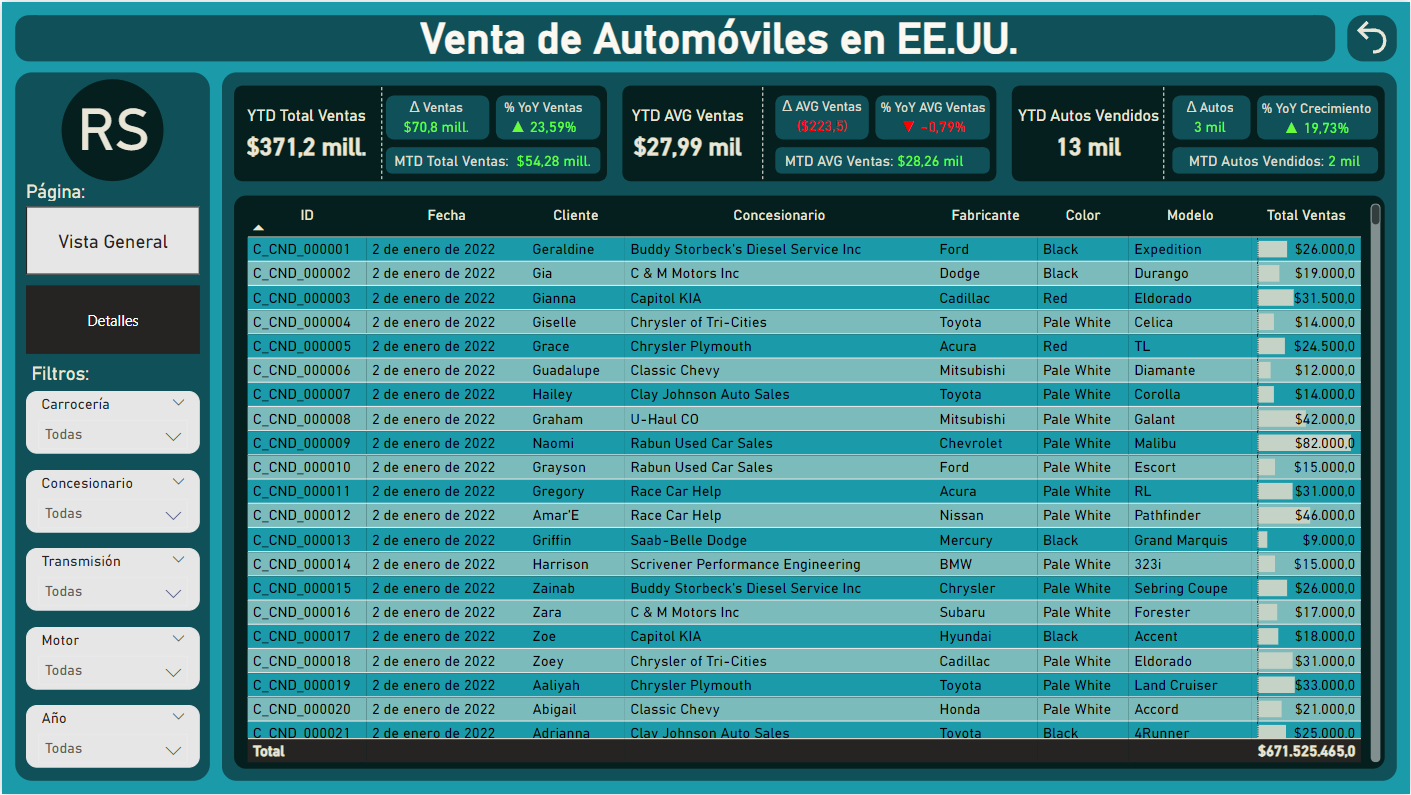

The page's visual inventory and layout, read from the dashboard file:
{"tool":"powerbi","page":{"name":"Detalles","canvas":[1280,720],"ordinal":1},"visuals":[{"type":"tableEx","fields":{"Values":["car_data.Car_id","car_data.Date","car_data.Customer Name","car_data.Dealer_Name","car_data.Company","car_data.Color","car_data.Model","Medidas_DAX.Total Ventas"]},"box":[217,178,1041,518],"z":0},{"type":"slicer","fields":{"Values":["car_data.Body Style"]},"box":[21.8,353.6,158.2,57.3],"z":1000},{"type":"slicer","fields":{"Values":["car_data.Dealer_Name"]},"box":[21.8,425,158.2,57.3],"z":2000},{"type":"slicer","fields":{"Values":["car_data.Transmission"]},"box":[21.8,496.4,158.2,57.3],"z":3000},{"type":"slicer","fields":{"Values":["Dim_Calendar DAX.#Año"]},"box":[21.8,639.1,158.2,57.3],"z":4000},{"type":"slicer","fields":{"Values":["car_data.Engine"]},"box":[21.8,567.7,158.2,57.3],"z":5000},{"type":"textbox","box":[21.8,322.7,79.1,30.9],"z":6000},{"type":"cardVisual","fields":{"Data":["Medidas_DAX.YTD AVG Ventas"]},"box":[549.1,77.3,356.4,84.5],"z":7000},{"type":"cardVisual","fields":{"Data":["Medidas_DAX.Diferencia AVG Ventas"]},"box":[686.4,78.2,118.2,52.7],"z":8000},{"type":"cardVisual","fields":{"Data":["Medidas_DAX.YTD Total Modelos Vendidos"]},"box":[913.6,77.3,355.5,84.5],"z":9000},{"type":"cardVisual","fields":{"Data":["Medidas_DAX.YTD Total Ventas"]},"box":[202.7,77.3,355.5,84.5],"z":10000},{"type":"cardVisual","fields":{"Data":["Medidas_DAX.% YoY AVG Ventas CONDICIONAL"]},"box":[787.3,78.2,118.2,52.7],"z":11000},{"type":"cardVisual","fields":{"Data":["Medidas_DAX.% YoY Crecimiento Modelos Vendidos CONDICIONAL"]},"box":[1131.8,79.1,126.4,52.7],"z":12000},{"type":"cardVisual","fields":{"Data":["Medidas_DAX.Diferencia Total Modelos Vendidos"]},"box":[1039.1,79.1,118.2,52.7],"z":13000},{"type":"cardVisual","fields":{"Data":["Medidas_DAX.Diferencia Total Ventas"]},"box":[338.2,79.1,113.6,52.7],"z":14000},{"type":"cardVisual","fields":{"Data":["Medidas_DAX.% YoY Ventas CONDICIONAL"]},"box":[435.5,78.2,113.6,52.7],"z":15000},{"type":"textbox","box":[380,10,561.8,50.9],"z":16000},{"type":"pageNavigator","title":"Página:","box":[22,162,158,159],"z":17000},{"type":"textbox","box":[64,81,86,73],"z":18000},{"type":"actionButton","box":[1225,12,44,40],"z":19000}]}

Visuals, with their boxes in screenshot pixels (x1, y1, x2, y2), scaled from the page's 1280x720 canvas onto the 1411x795 screenshot:
tableEx - car_data.Car_id x car_data.Date: {"x1": 239, "y1": 197, "x2": 1387, "y2": 768}
slicer - car_data.Body Style: {"x1": 24, "y1": 390, "x2": 198, "y2": 454}
slicer - car_data.Dealer_Name: {"x1": 24, "y1": 469, "x2": 198, "y2": 533}
slicer - car_data.Transmission: {"x1": 24, "y1": 548, "x2": 198, "y2": 611}
slicer - Dim_Calendar DAX.#Año: {"x1": 24, "y1": 706, "x2": 198, "y2": 769}
slicer - car_data.Engine: {"x1": 24, "y1": 627, "x2": 198, "y2": 690}
textbox: {"x1": 24, "y1": 356, "x2": 111, "y2": 390}
cardVisual - Medidas_DAX.YTD AVG Ventas: {"x1": 605, "y1": 85, "x2": 998, "y2": 179}
cardVisual - Medidas_DAX.Diferencia AVG Ventas: {"x1": 757, "y1": 86, "x2": 887, "y2": 145}
cardVisual - Medidas_DAX.YTD Total Modelos Vendidos: {"x1": 1007, "y1": 85, "x2": 1399, "y2": 179}
cardVisual - Medidas_DAX.YTD Total Ventas: {"x1": 223, "y1": 85, "x2": 615, "y2": 179}
cardVisual - Medidas_DAX.% YoY AVG Ventas CONDICIONAL: {"x1": 868, "y1": 86, "x2": 998, "y2": 145}
cardVisual - Medidas_DAX.% YoY Crecimiento Modelos Vendidos CONDICIONAL: {"x1": 1248, "y1": 87, "x2": 1387, "y2": 146}
cardVisual - Medidas_DAX.Diferencia Total Modelos Vendidos: {"x1": 1145, "y1": 87, "x2": 1276, "y2": 146}
cardVisual - Medidas_DAX.Diferencia Total Ventas: {"x1": 373, "y1": 87, "x2": 498, "y2": 146}
cardVisual - Medidas_DAX.% YoY Ventas CONDICIONAL: {"x1": 480, "y1": 86, "x2": 605, "y2": 145}
textbox: {"x1": 419, "y1": 11, "x2": 1038, "y2": 67}
"Página:" pageNavigator: {"x1": 24, "y1": 179, "x2": 198, "y2": 354}
textbox: {"x1": 71, "y1": 89, "x2": 165, "y2": 170}
actionButton: {"x1": 1350, "y1": 13, "x2": 1399, "y2": 57}
